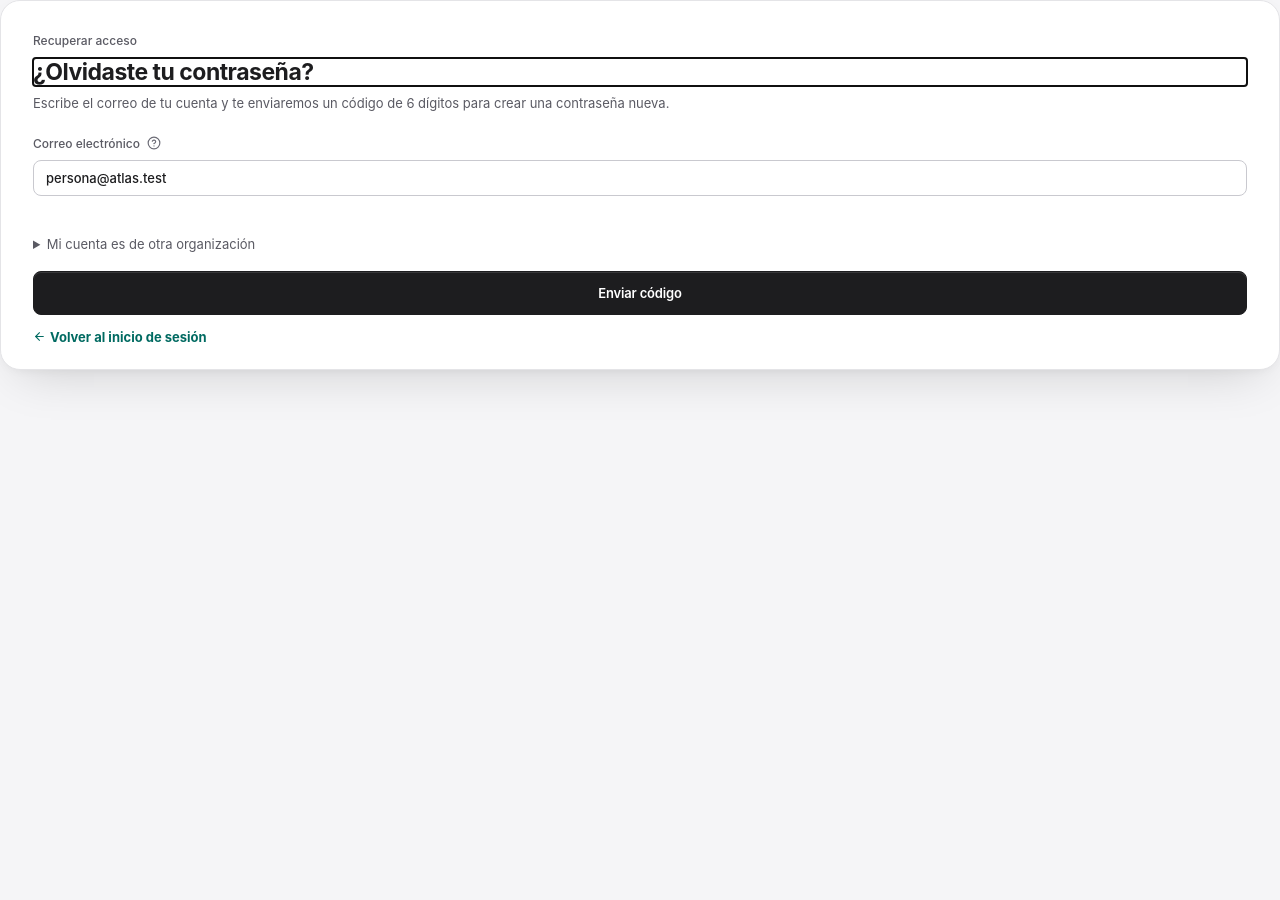
Test case: PasswordRecovery › pedir un código nuevo avisa que el anterior deja de servir
The image size is (1280, 900).
Click the button "Enviar código".
click(640, 293)  # box [33,271,1247,315]
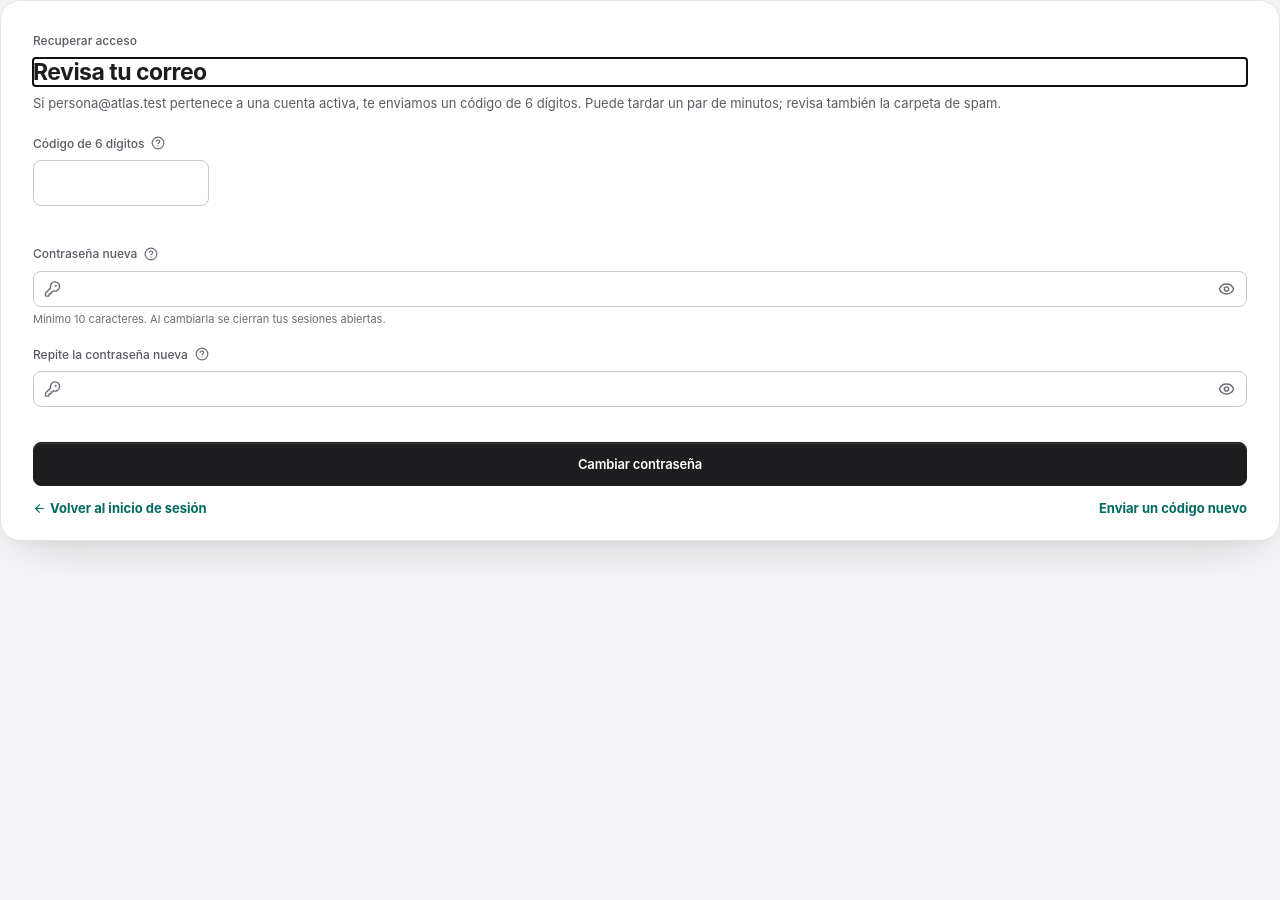
Now the heading "Revisa tu correo" is shown, box [33,58,207,86]
Click the button "Enviar un código nuevo".
click(1173, 508)  # box [1099,500,1247,516]
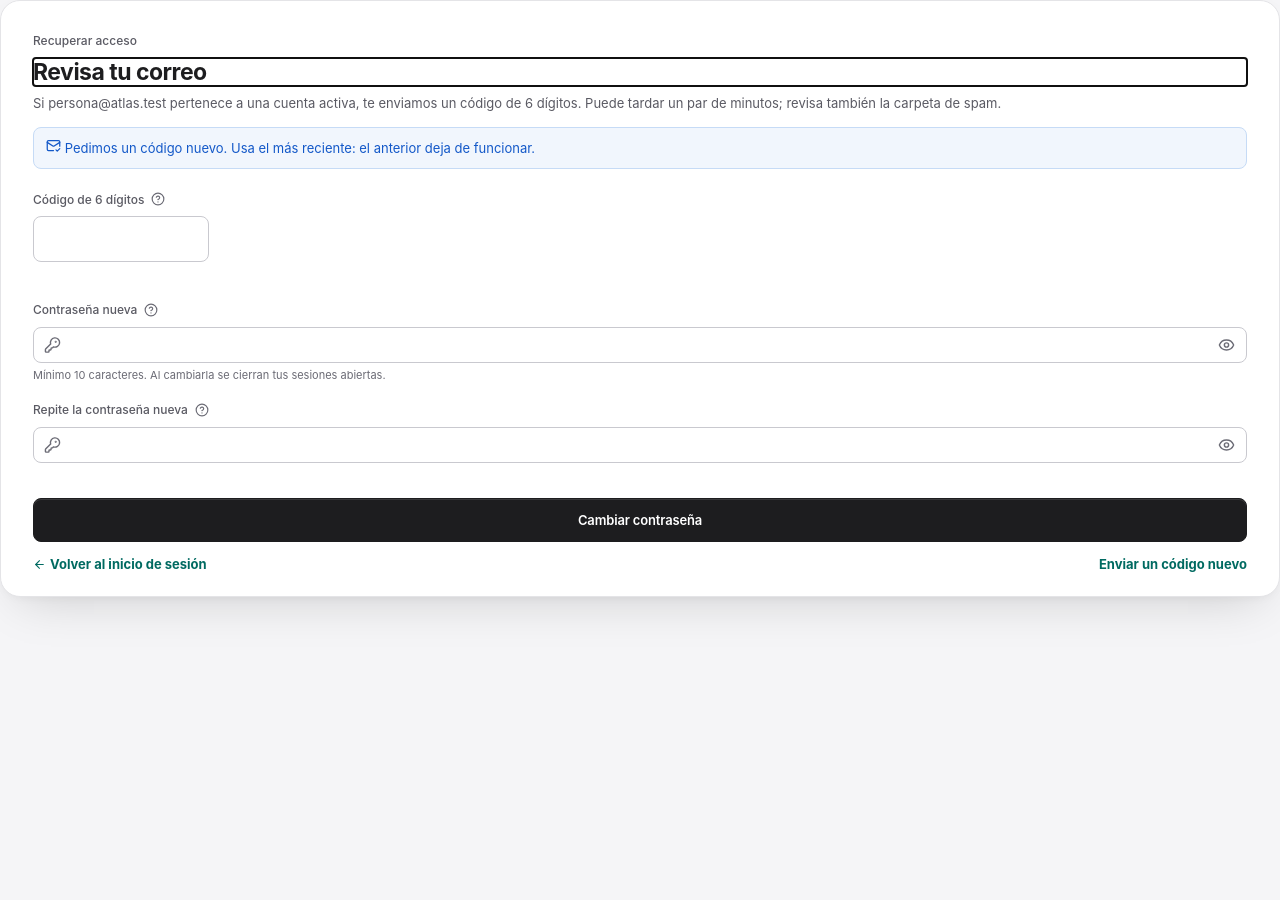
Now the text "Pedimos un código nuevo. Usa el más reciente: el anterior deja de funcionar." is shown, box [33,127,1247,169]
